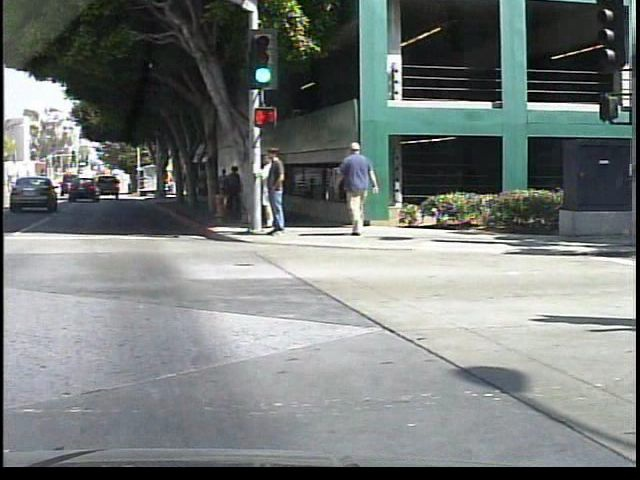person: (335, 139, 384, 237), (254, 141, 293, 243), (253, 147, 282, 229), (228, 164, 248, 217)
